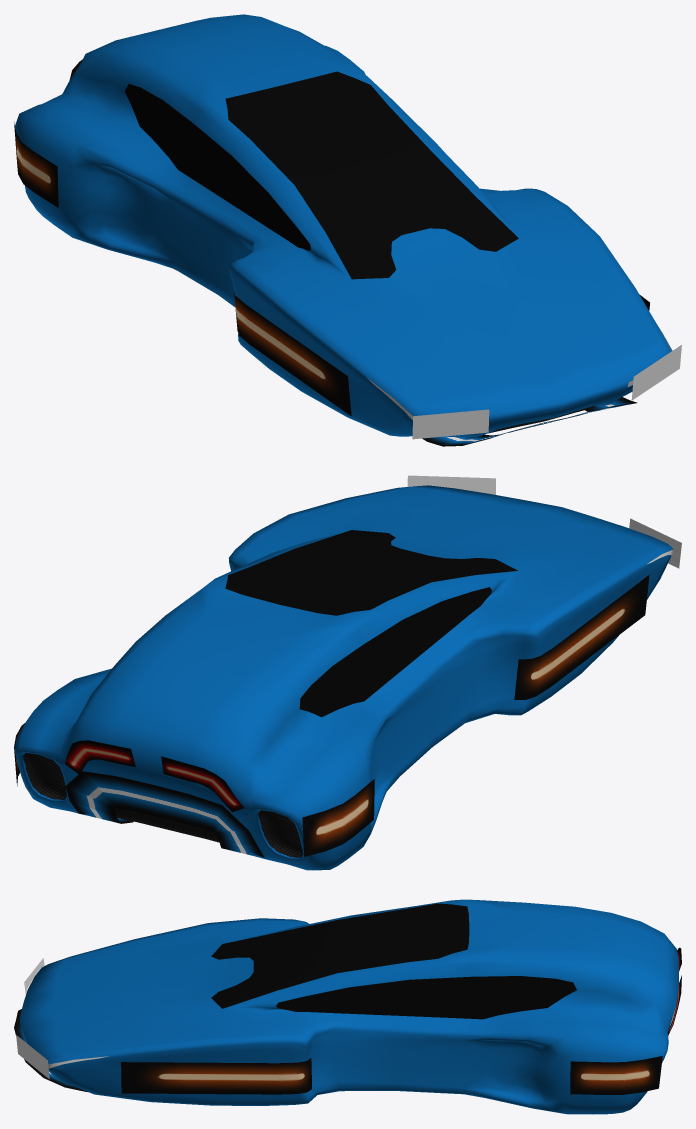
The model's file is HoverRaceCar-3.FBX.
3 views of the same model, one above another, from view 1: azimuth 30°, elevation 25°; view 2: azimuth 150°, elevation 25°; view 3: azimuth 270°, elevation 25° (orthographic). The views are drawn at different scales.
Parts seen in each view (by area): view 1: Plane001, TailLightGlow, HeadlightsR, HeadlightsL, Plane002; view 2: Plane001, TailLightGlow, Plane002, Taillight, HeadlightsL, HeadlightsR; view 3: Plane001, TailLightGlow, HeadlightsL, Plane002.
Boxes of the visible parts, bbox=[...] form: Plane001: bbox=[15, 14, 671, 437]; TailLightGlow: bbox=[14, 122, 649, 416]; HeadlightsR: bbox=[412, 409, 489, 439]; HeadlightsL: bbox=[631, 345, 681, 400]; Plane002: bbox=[422, 397, 637, 446]; Plane001: bbox=[15, 485, 673, 870]; TailLightGlow: bbox=[14, 574, 649, 856]; Plane002: bbox=[65, 771, 264, 857]; Taillight: bbox=[65, 740, 244, 812]; HeadlightsL: bbox=[407, 475, 495, 494]; HeadlightsR: bbox=[629, 518, 681, 568]; Plane001: bbox=[20, 899, 678, 1114]; TailLightGlow: bbox=[121, 1056, 662, 1094]; HeadlightsL: bbox=[16, 1035, 49, 1079]; Plane002: bbox=[14, 1009, 669, 1091].
Size of the model in its own units: 39.7 by 19.85 by 89.66.
Materials: 3 (2 with a texture image).
